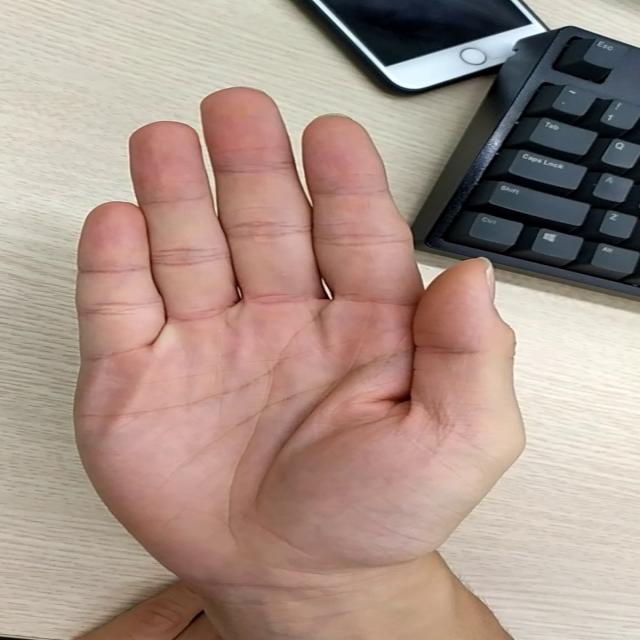hand: (69, 98, 529, 537)
